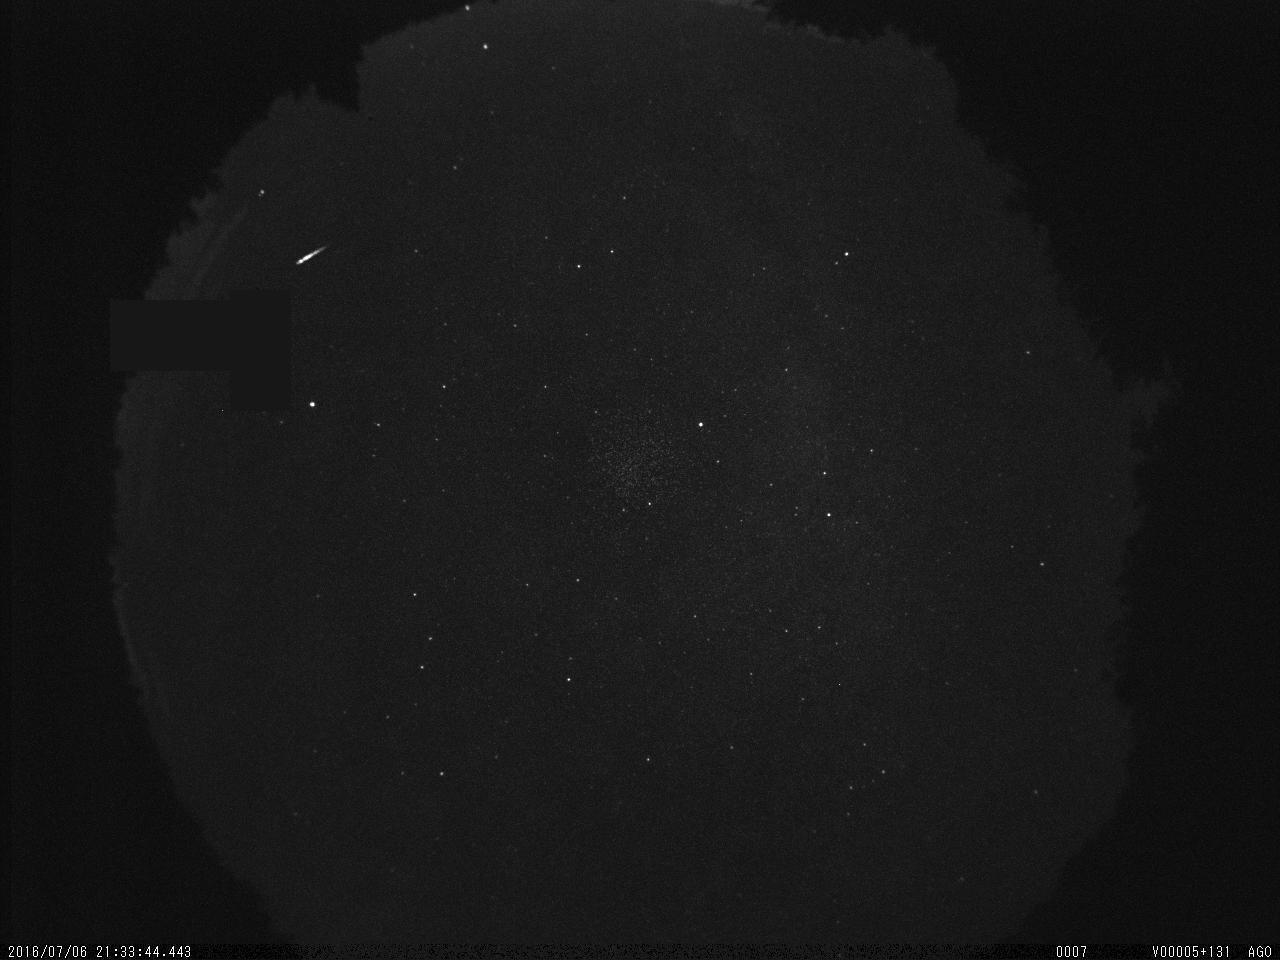Meteor: (290, 234, 336, 274)
